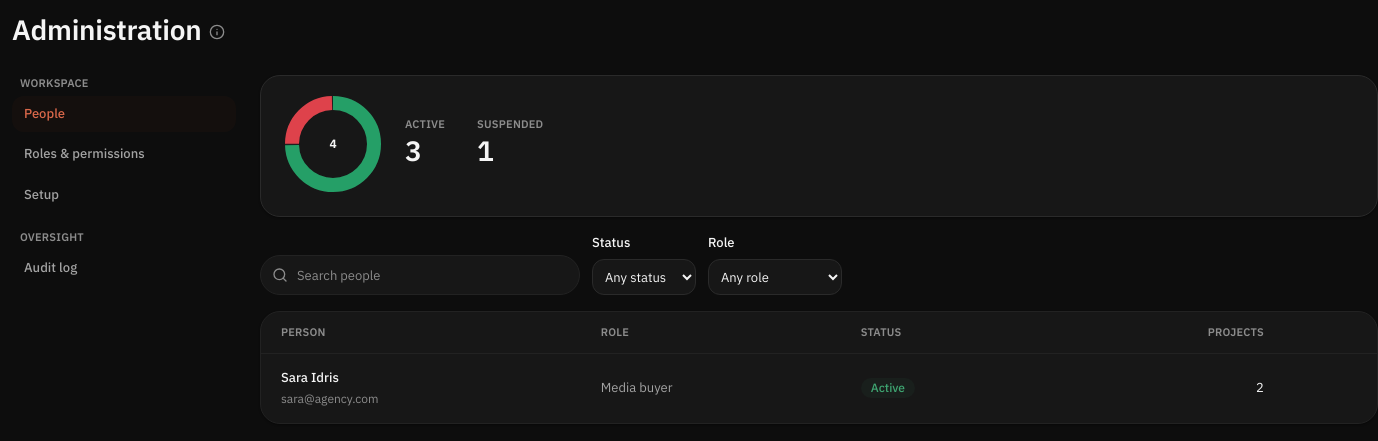
Scenario: AdministrationPage › explains an empty audit trail
Click the button "Audit log": [124, 268] box [12,250,236,286]
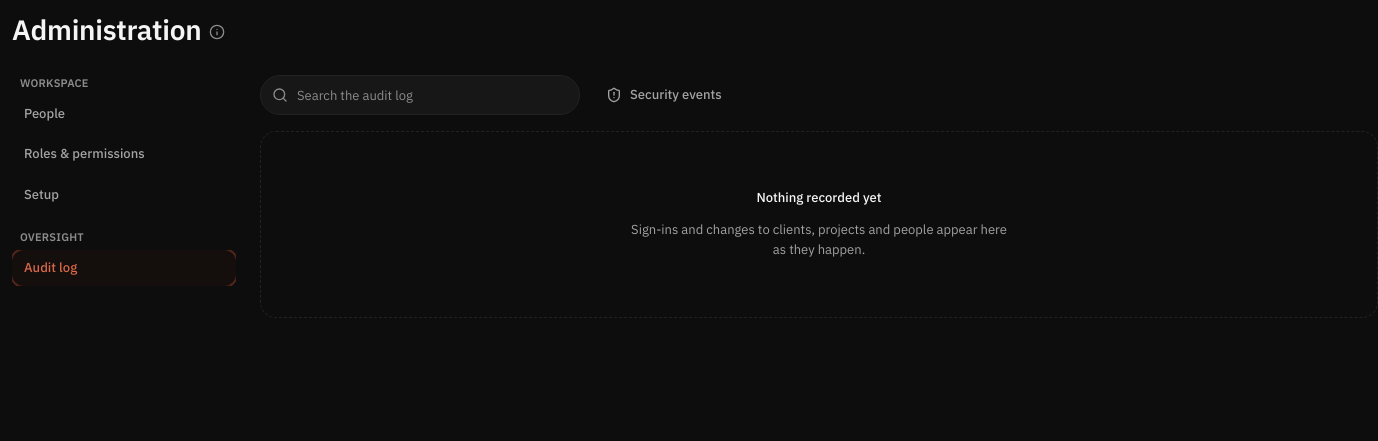
Result: the text "Nothing recorded yet" is shown at [756,188,882,208]
